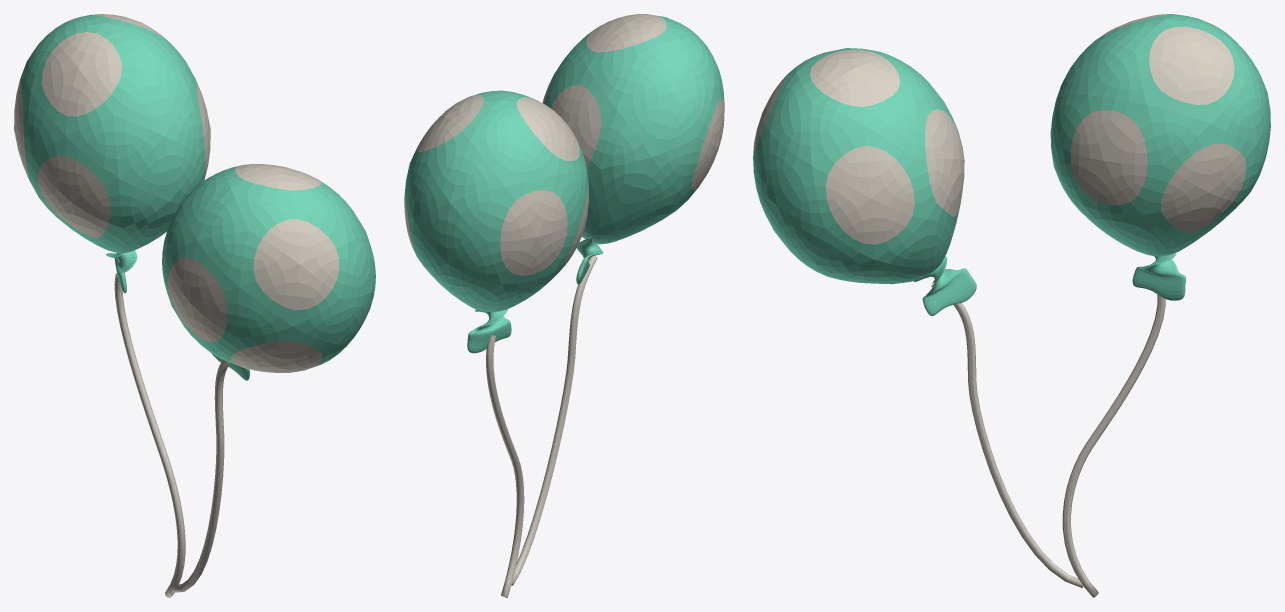
The model's file is balloon_kari_1.fbx.
3 renders of one model, left to right at view 1: azimuth 30°, elevation 25°; view 2: azimuth 150°, elevation 25°; view 3: azimuth 270°, elevation 25°, orthographic. The views are drawn at different scales.
Visible parts, largest first — view 1: 立方体.013; view 2: 立方体.013; view 3: 立方体.013.
Boxes of the visible parts, x1=… form: 立方体.013: x1=14, y1=14, x2=375, y2=597; 立方体.013: x1=404, y1=14, x2=724, y2=597; 立方体.013: x1=753, y1=14, x2=1270, y2=597.
Bounding box in the file's own units: 30.93 × 92.27 × 76.91.
